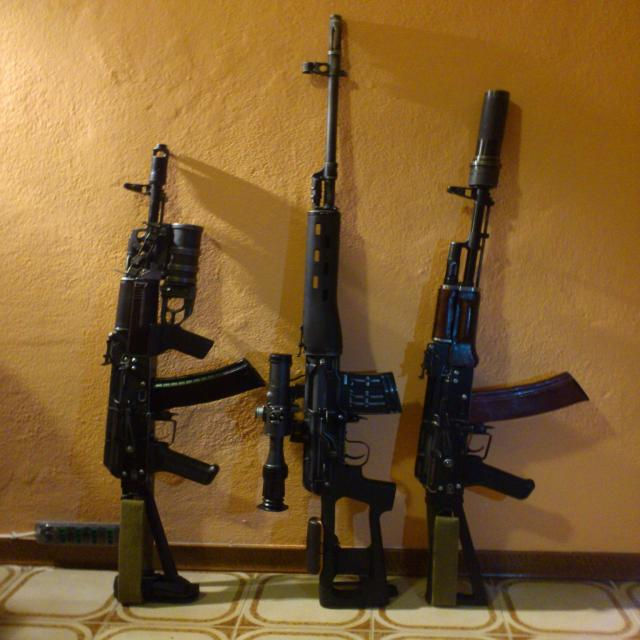firearm: (411, 88, 592, 605), (258, 14, 407, 608), (100, 143, 265, 606)
